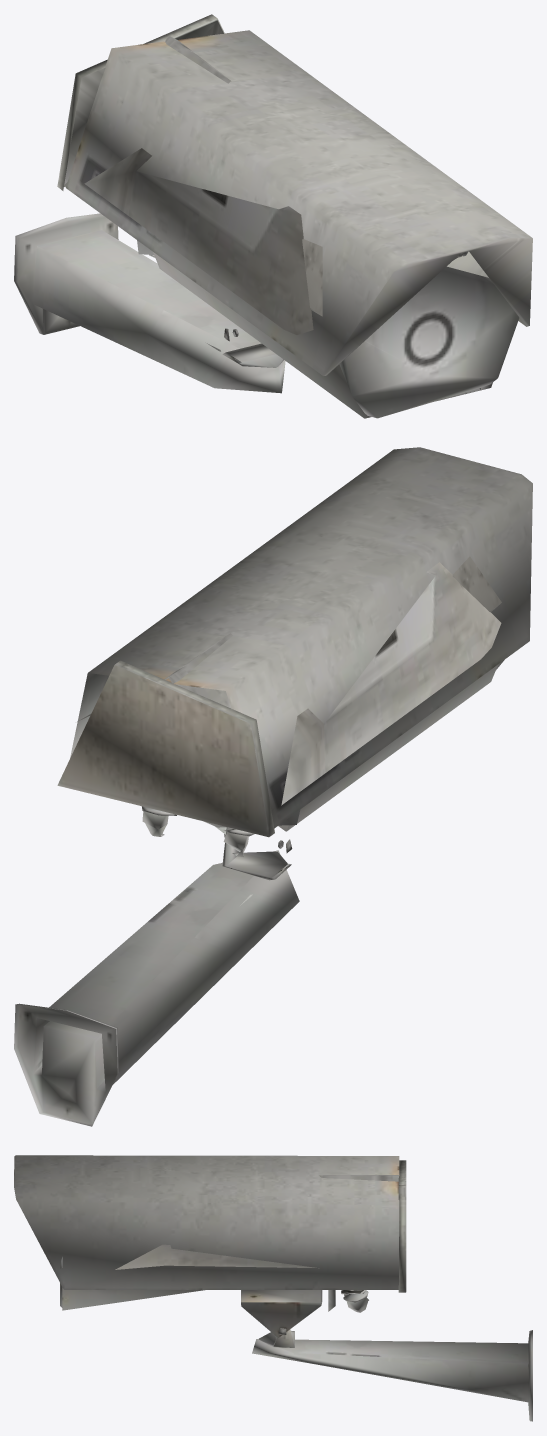
Rendered from security_camera_01.glb.
3 views of the same model, one above another, from view 1: azimuth 30°, elevation 25°; view 2: azimuth 150°, elevation 25°; view 3: azimuth 270°, elevation 25° (orthographic). The views are drawn at different scales.
Parts seen in each view (by area): view 1: security_camera_01; view 2: security_camera_01; view 3: security_camera_01.
Boxes of the visible parts, left/top/right/bottom form: security_camera_01: left=14, top=14, right=532, bottom=418; security_camera_01: left=14, top=447, right=532, bottom=1126; security_camera_01: left=14, top=1155, right=532, bottom=1421.
Size of the model in its own units: 0.1696 by 0.2848 by 0.5536.
Materials: 2 (2 with a texture image).
